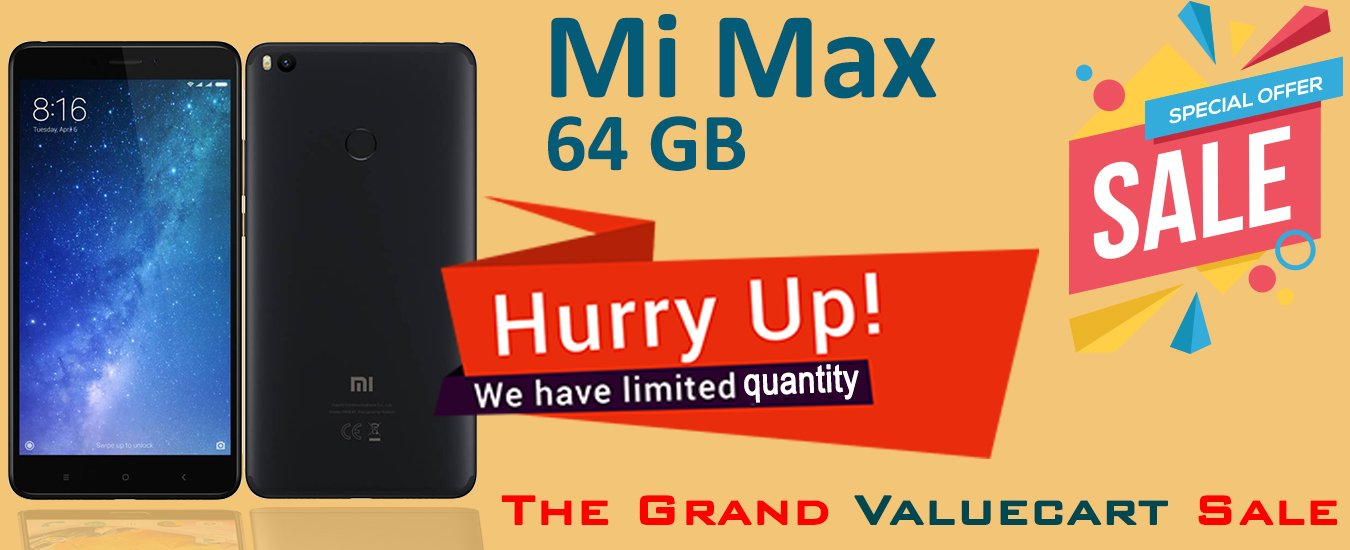mobile: (1, 34, 247, 529), (238, 29, 479, 523)
